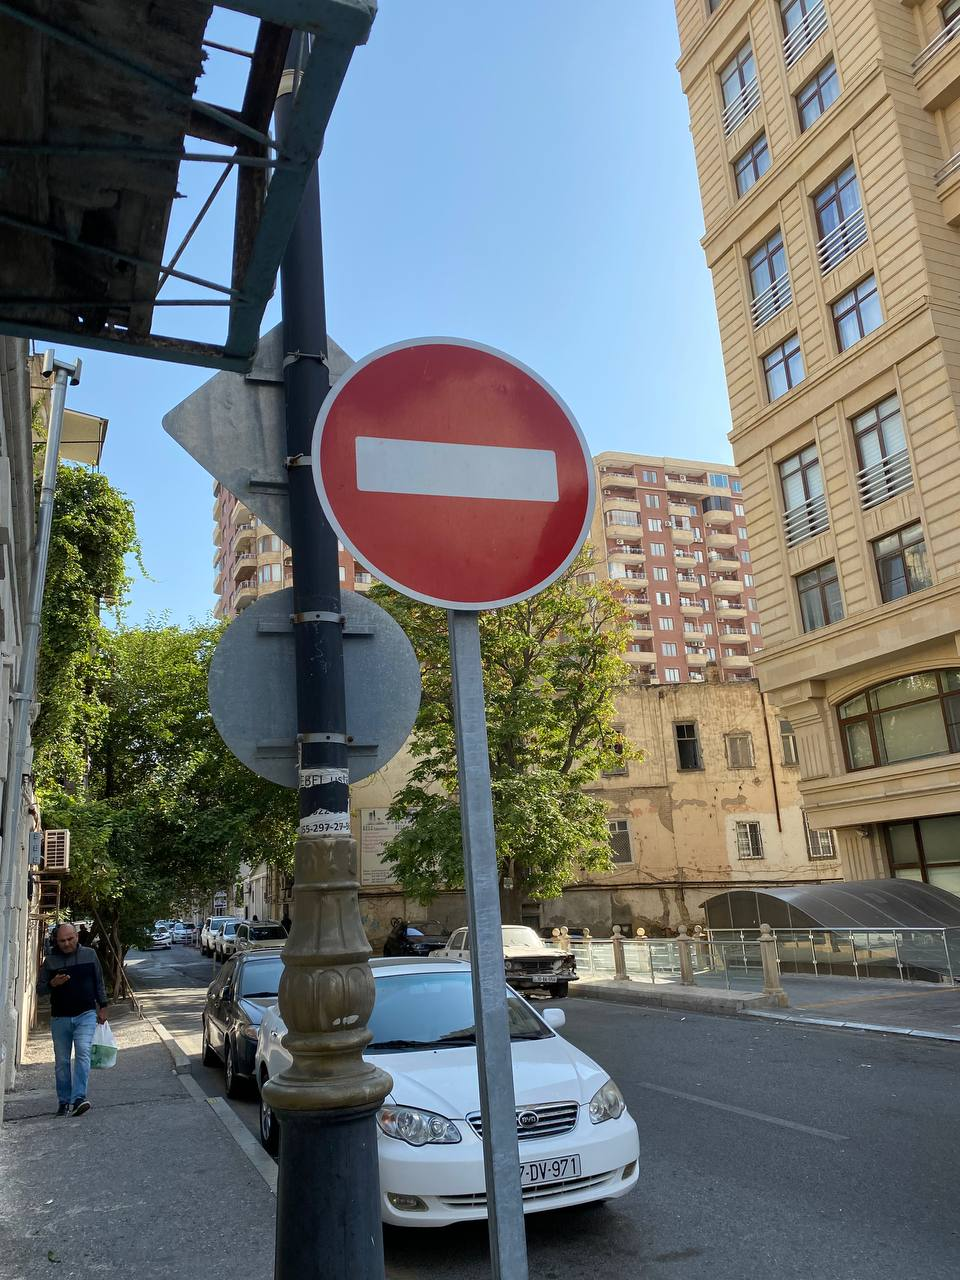No Entry: (312, 336, 598, 610)
